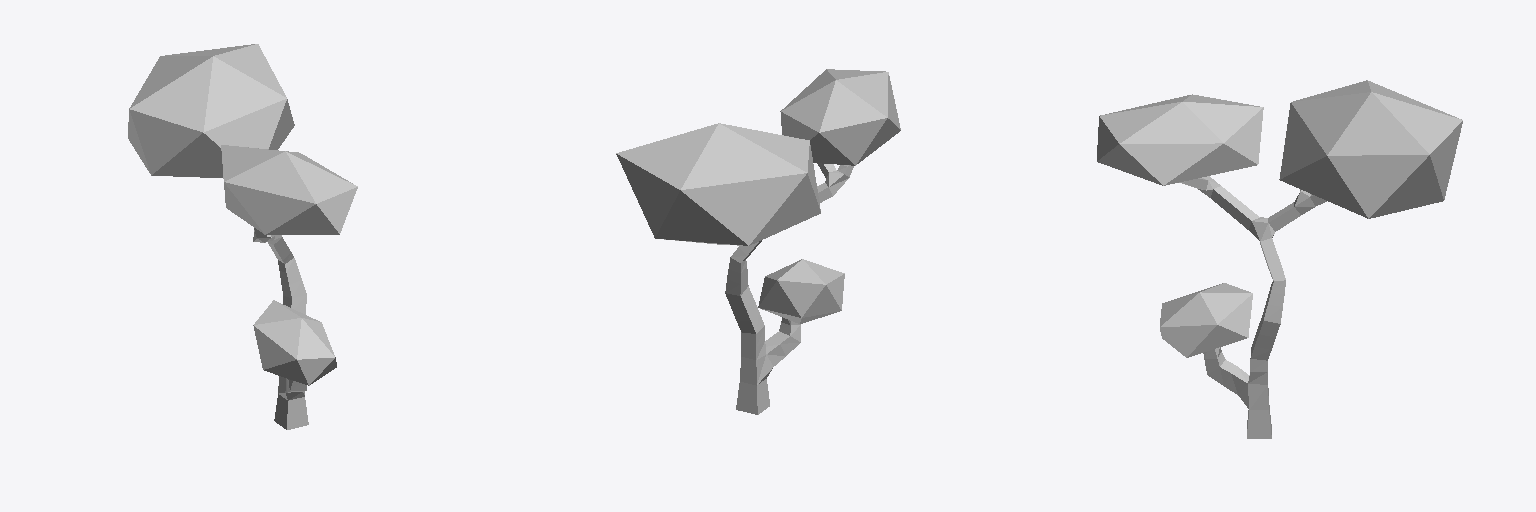
The model's file is LowPolyTree.obj.
3 views of the same model, side by side, from view 1: azimuth 30°, elevation 25°; view 2: azimuth 150°, elevation 25°; view 3: azimuth 270°, elevation 25° (orthographic).
Visible parts, largest first — view 1: Icosphere, Cube; view 2: Icosphere, Cube; view 3: Icosphere, Cube.
Boxes of the visible parts, x1=… form: Icosphere: x1=128, y1=44, x2=357, y2=385; Cube: x1=223, y1=178, x2=308, y2=429; Icosphere: x1=616, y1=69, x2=900, y2=323; Cube: x1=725, y1=163, x2=853, y2=414; Icosphere: x1=1097, y1=80, x2=1462, y2=357; Cube: x1=1179, y1=176, x2=1326, y2=438.
Bounding box in the file's own units: 3.79 × 7.2 × 7.23.